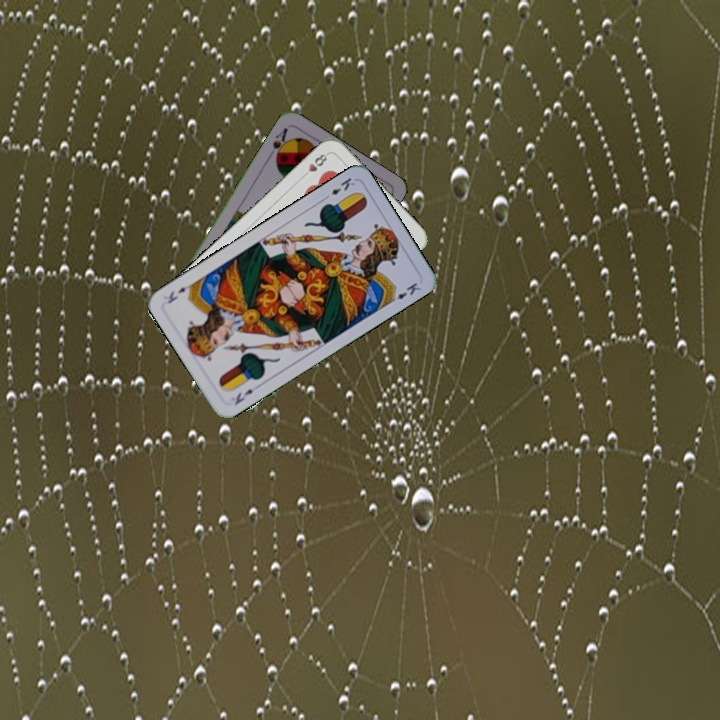EK: (320, 173, 358, 203), (230, 385, 256, 408)
H8: (298, 149, 331, 180)
SA: (265, 124, 292, 163)
